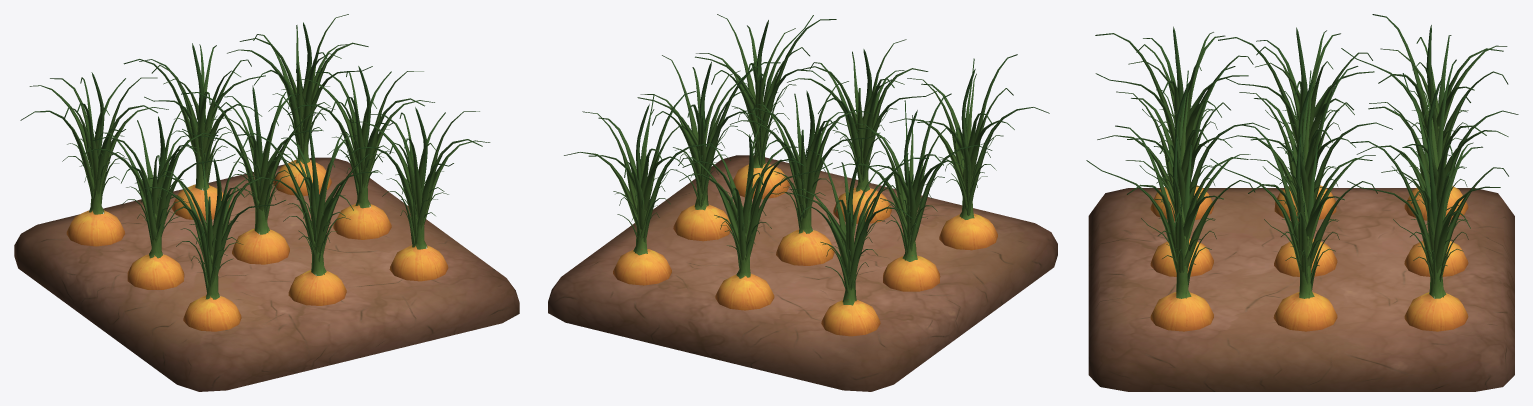
File: sogan_plant.fbx
The picture shows the model from 3 angles, left to right: view 1: azimuth 30°, elevation 25°; view 2: azimuth 150°, elevation 25°; view 3: azimuth 270°, elevation 25°; orthographic projection. The views are drawn at different scales.
Parts seen in each view (by area): view 1: Soil_sogan, sogan_plant3, sogan_plant2, sogan mat; view 2: Soil_sogan, sogan_plant3, sogan_plant2, sogan mat; view 3: Soil_sogan, sogan_plant3, sogan_plant2, sogan mat.
Part boxes in pixels (left/top/right/bottom): Soil_sogan: left=14, top=157, right=519, bottom=391; sogan_plant3: left=20, top=14, right=490, bottom=331; sogan_plant2: left=62, top=81, right=448, bottom=293; sogan mat: left=79, top=113, right=437, bottom=287; Soil_sogan: left=548, top=155, right=1057, bottom=391; sogan_plant3: left=564, top=14, right=1049, bottom=336; sogan_plant2: left=613, top=83, right=1003, bottom=292; sogan mat: left=617, top=121, right=987, bottom=289; Soil_sogan: left=1088, top=188, right=1514, bottom=391; sogan_plant3: left=1086, top=14, right=1518, bottom=331; sogan_plant2: left=1139, top=89, right=1469, bottom=280; sogan mat: left=1159, top=135, right=1463, bottom=290.
Size of the model in its own units: 166 by 90.42 by 164.
